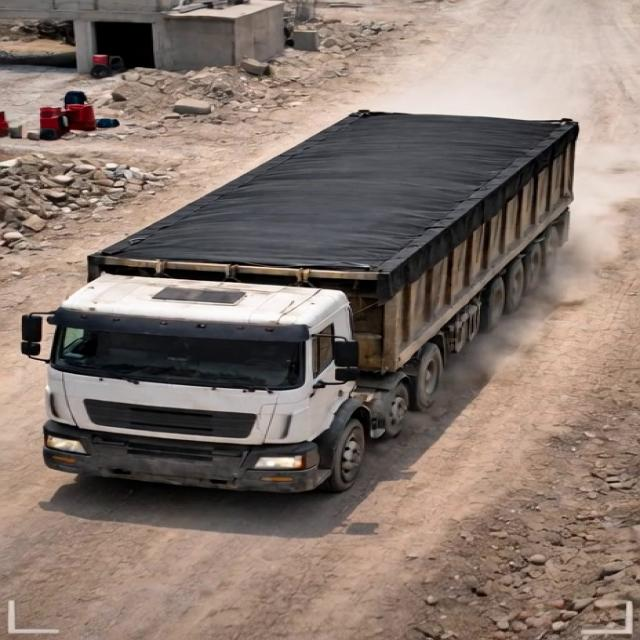trailer: (92, 109, 605, 274)
truck: (16, 48, 603, 480)
